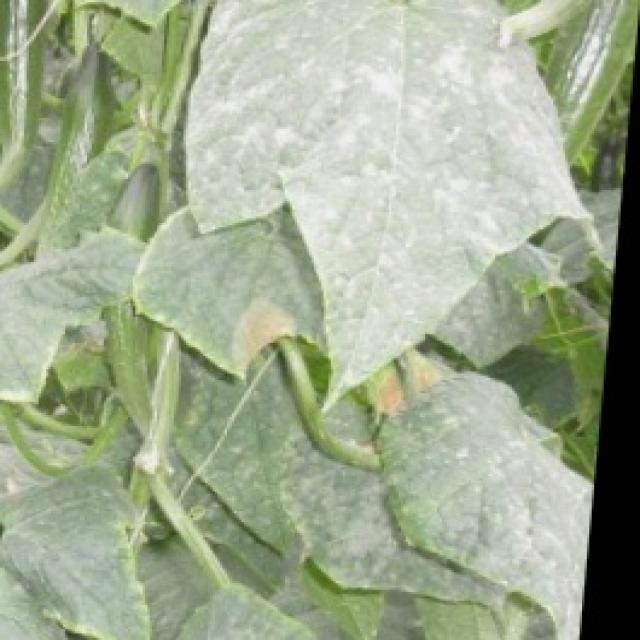Leaf_Mold: (181, 6, 597, 412), (158, 220, 580, 604), (0, 196, 191, 640)
